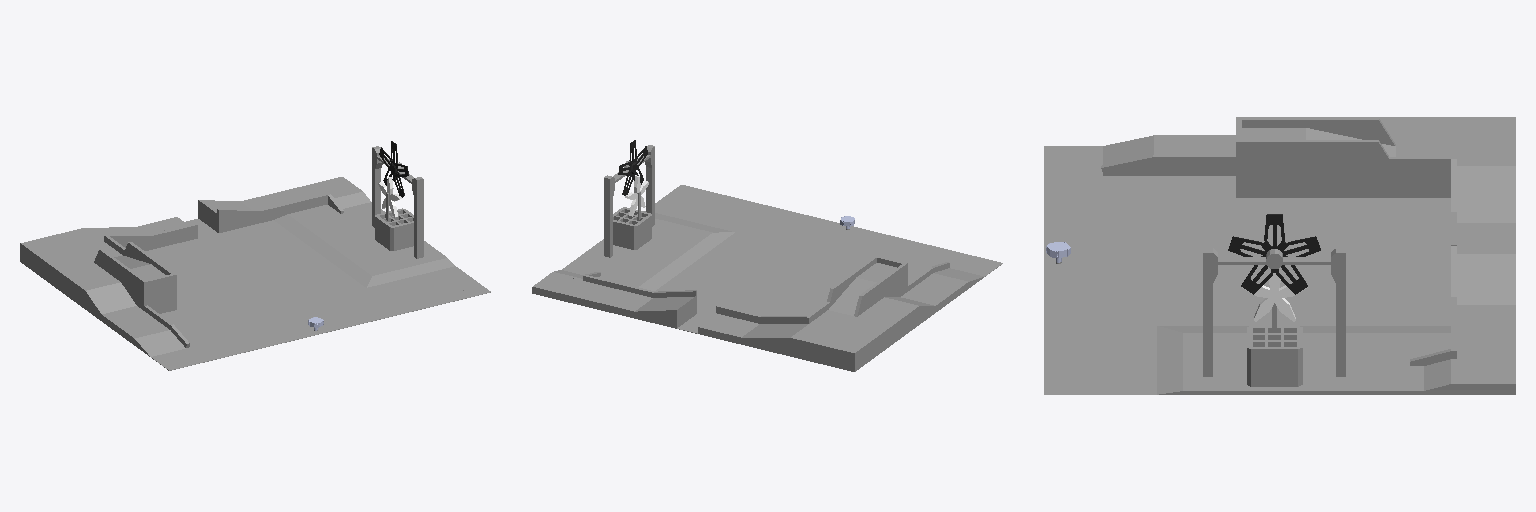
The robot description file, URDF, robot "rm_single":
<?xml version="1.0" encoding="utf-8"?>
<!-- This URDF was automatically created by SolidWorks to URDF Exporter! Originally created by [author] ([email redacted]) 
     Commit Version: 1.5.1-0-g916b5db  Build Version: 1.5.7152.31018
     For more information, please see http://wiki.ros.org/sw_urdf_exporter -->
<robot
  name="rm_single">
  <link
    name="base_link">
    <inertial>
      <origin
        xyz="-3.7408 3.5756 0.26492"
        rpy="0 0 0" />
      <mass
        value="11153" />
      <inertia
        ixx="35963"
        ixy="1127.8"
        ixz="719.35"
        iyy="122460"
        iyz="564.03"
        izz="156540" />
    </inertial>
    <visual>
      <origin
        xyz="0 0 0"
        rpy="0 0 0" />
      <geometry>
        <mesh
          filename="package://rm_single/meshes/base_link.STL" />
      </geometry>
      <material
        name="">
        <color
          rgba="0.66667 0.66667 0.66667 1" />
      </material>
    </visual>
    <collision>
      <origin
        xyz="0 0 0"
        rpy="0 0 0" />
      <geometry>
        <mesh
          filename="package://rm_single/meshes/base_link.STL" />
      </geometry>
    </collision>
  </link>
  <link
    name="link_signal">
    <inertial>
      <origin
        xyz="-2.2204E-14 -2.2204E-16 -0.045571"
        rpy="0 0 0" />
      <mass
        value="19.215" />
      <inertia
        ixx="2.0802"
        ixy="-1.8332E-14"
        ixz="7.1733E-15"
        iyy="2.0802"
        iyz="1.0537E-16"
        izz="4.1547" />
    </inertial>
    <visual>
      <origin
        xyz="0 0 0"
        rpy="0 0 0" />
      <geometry>
        <mesh
          filename="package://rm_single/meshes/link_signal.STL" />
      </geometry>
      <material
        name="">
        <color
          rgba="0.20392 0.20392 0.20392 1" />
      </material>
    </visual>
    <collision>
      <origin
        xyz="0 0 0"
        rpy="0 0 0" />
      <geometry>
        <mesh
          filename="package://rm_single/meshes/link_signal.STL" />
      </geometry>
    </collision>
  </link>
  <joint
    name="joint_signal"
    type="revolute">
    <origin
      xyz="1.9709 1.997 2.239"
      rpy="1.5708 0 -1.5708" />
    <parent
      link="base_link" />
    <child
      link="link_signal" />
    <axis
      xyz="0 0 1" />
    <limit
      lower="-3.14"
      upper="3.14"
      effort="100"
      velocity="1" />
    <dynamics
      damping="1"
      friction="0.75" />
  </joint>
  <link
    name="link_switch">
    <inertial>
      <origin
        xyz="1.1519E-15 -7.7716E-16 0.05"
        rpy="0 0 0" />
      <mass
        value="38.518" />
      <inertia
        ixx="1.9965"
        ixy="-1.4555E-14"
        ixz="6.7294E-15"
        iyy="1.9965"
        iyz="-3.9374E-17"
        izz="3.9289" />
    </inertial>
    <visual>
      <origin
        xyz="0 0 0"
        rpy="0 0 0" />
      <geometry>
        <mesh
          filename="package://rm_single/meshes/link_switch.STL" />
      </geometry>
      <material
        name="">
        <color
          rgba="1 1 1 1" />
      </material>
    </visual>
    <collision>
      <origin
        xyz="0 0 0"
        rpy="0 0 0" />
      <geometry>
        <mesh
          filename="package://rm_single/meshes/link_switch.STL" />
      </geometry>
    </collision>
  </link>
  <joint
    name="joint_switch"
    type="continuous">
    <origin
      xyz="1.942 2.0001 1.4555"
      rpy="1.5708 0 -1.5708" />
    <parent
      link="base_link" />
    <child
      link="link_switch" />
    <axis
      xyz="0 0 -1" />
    <limit
      lower="-3.14"
      upper="3.14"
      effort="100"
      velocity="1" />
    <dynamics
      damping="1"
      friction="0.75" />
  </joint>
  <link
    name="link_spinning">
    <inertial>
      <origin
        xyz="-0.0024136 0.23737 -0.010237"
        rpy="0 0 0" />
      <mass
        value="15.722" />
      <inertia
        ixx="0.16729"
        ixy="3.6987E-13"
        ixz="1.7677E-12"
        iyy="0.2467"
        iyz="2.0255E-12"
        izz="0.16729" />
    </inertial>
    <visual>
      <origin
        xyz="0 0 0"
        rpy="0 0 0" />
      <geometry>
        <mesh
          filename="package://rm_single/meshes/link_spinning.STL" />
      </geometry>
      <material
        name="">
        <color
          rgba="0.79216 0.81961 0.93333 1" />
      </material>
    </visual>
    <collision>
      <origin
        xyz="0 0 0"
        rpy="0 0 0" />
      <geometry>
        <mesh
          filename="package://rm_single/meshes/link_spinning.STL" />
      </geometry>
    </collision>
  </link>
  <joint
    name="joint_spinning"
    type="continuous">
    <origin
      xyz="-2.5265 -1.6611 -0.0088161"
      rpy="1.5708 0 3.1416" />
    <parent
      link="base_link" />
    <child
      link="link_spinning" />
    <axis
      xyz="0 -1 0" />
    <limit
      lower="-3.14"
      upper="3.14"
      effort="100"
      velocity="1" />
    <dynamics
      damping="1"
      friction="0.75" />
  </joint>
</robot>

--- What the picture shows (computed from the rendered views, not written in the file) ---
Views: 3 orthographic renders of the robot side by side, from view 1: azimuth 30°, elevation 25°; view 2: azimuth 150°, elevation 25°; view 3: azimuth 270°, elevation 25°.
Robot: rm_single — 4 links, 3 joints (1 revolute, 2 continuous); root link base_link; default pose: every joint at zero.
Links seen in each view (by area): view 1: base_link, link_signal; view 2: base_link, link_signal; view 3: base_link, link_signal, link_switch.
Boxes of the visible links, x1,y1,x2,y2 form: base_link: (20,146,490,370); link_signal: (379,141,408,197); base_link: (532,145,1002,371); link_signal: (618,140,647,195); base_link: (1044,117,1515,394); link_signal: (1228,214,1320,294); link_switch: (1242,273,1307,321).
Bounding box of the posed robot: 10 × 8 × 3.04 m (x, y, z).
4 mesh visuals loaded from 4 distinct referenced files (4 binary STL).